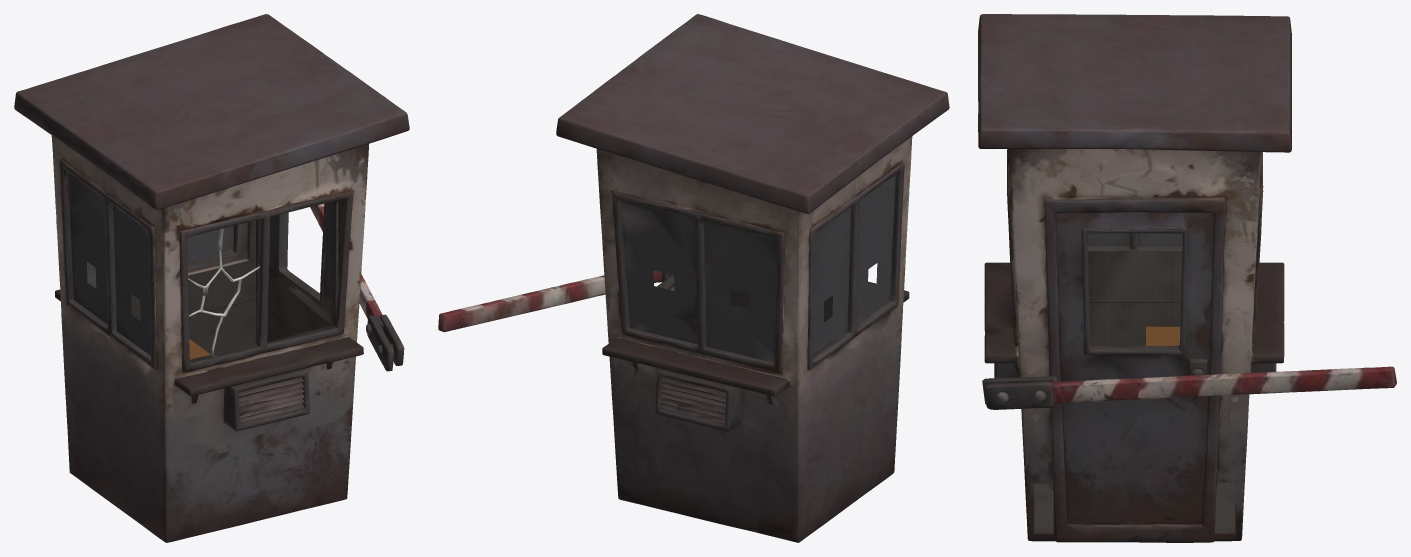
Rendered from prison_guard_booth_c.glb.
3 views of the same model, side by side, from view 1: azimuth 30°, elevation 25°; view 2: azimuth 150°, elevation 25°; view 3: azimuth 270°, elevation 25° (orthographic). The views are drawn at different scales.
Parts seen in each view (by area): view 1: body, door; view 2: body, barrier; view 3: body, door, barrier.
Part boxes in pixels (x1,y1,x2,y2): body: (14, 14, 409, 542); door: (267, 200, 382, 341); body: (556, 14, 949, 542); barrier: (438, 279, 584, 332); body: (978, 14, 1291, 542); door: (1053, 230, 1208, 537); barrier: (1160, 366, 1396, 398).
Bounding box in the file's own units: 2.61 × 3 × 2.63.
8 materials, 3 textured.
